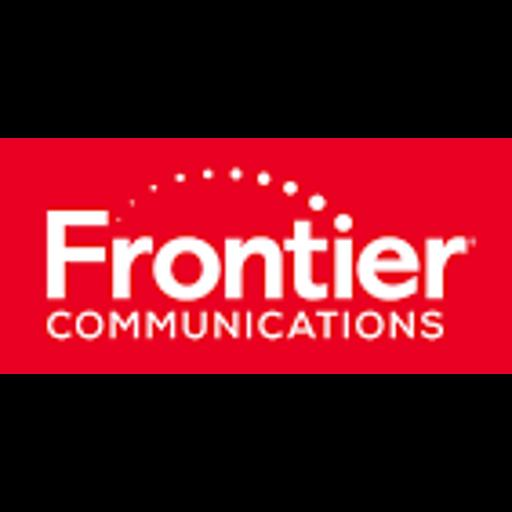Frontier Communications: (0, 138, 512, 374)
